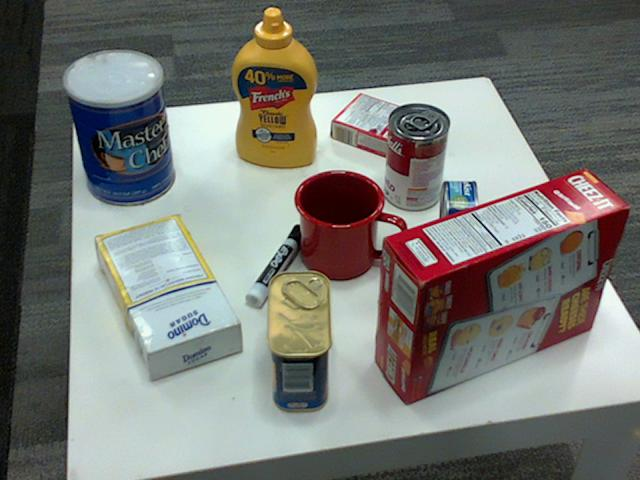cracker_box: (374, 167, 627, 401)
gelatin_box: (332, 93, 421, 156)
large_marker: (243, 226, 306, 312)
master_chef_can: (61, 50, 173, 206)
mug: (293, 167, 404, 277)
mustard_bottle: (231, 8, 316, 167)
potted_meat_can: (268, 271, 334, 412)
sugar_box: (93, 212, 240, 375)
tomato_soup_can: (383, 104, 448, 211)
tuna_fish_can: (437, 179, 477, 261)
